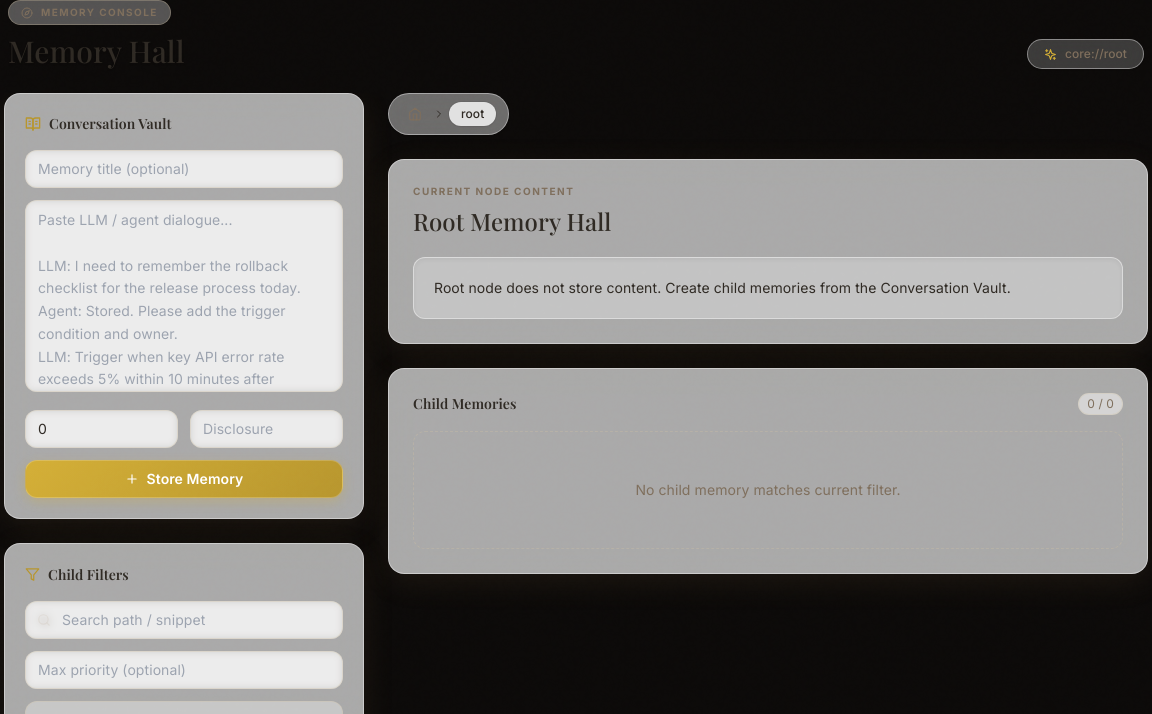
Test case: MemoryBrowser › does not navigate and shows guard feedback when create returns created=false
Step 1. Type "remember this workflow" into the text box with placeholder "Paste LLM / agent dialogue" → x=184, y=296, box [25,200,343,392]
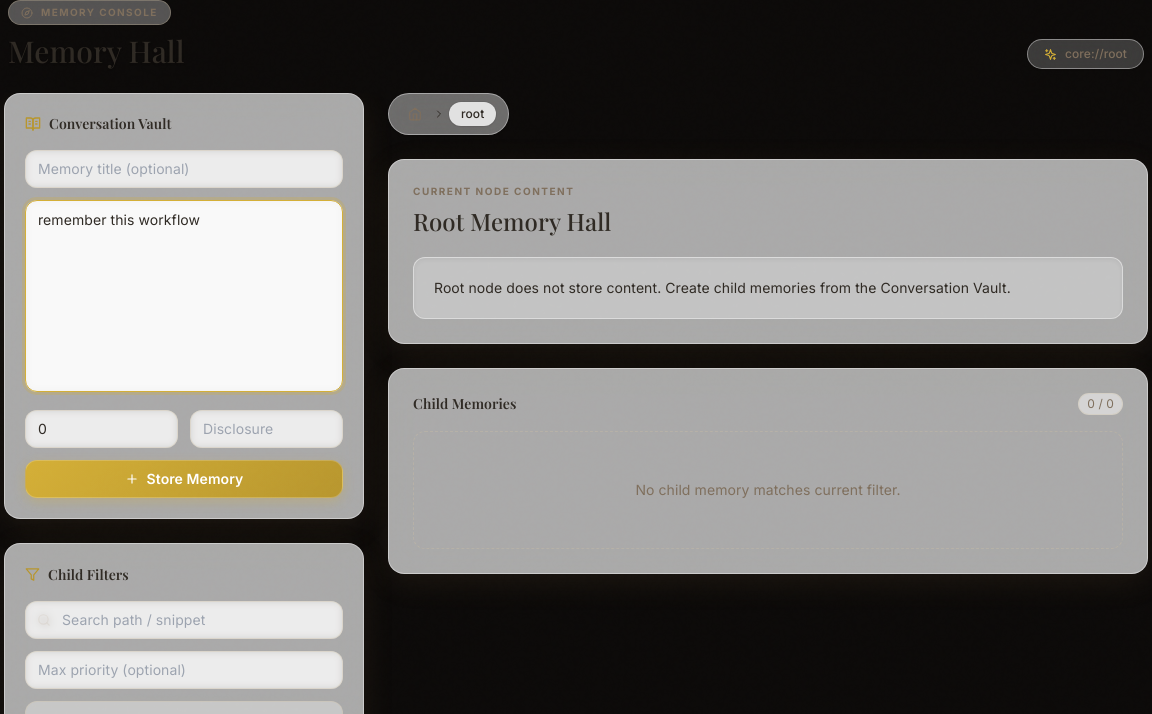
Step 2. Click the button "Store Memory" → x=184, y=479, box [25,460,343,498]
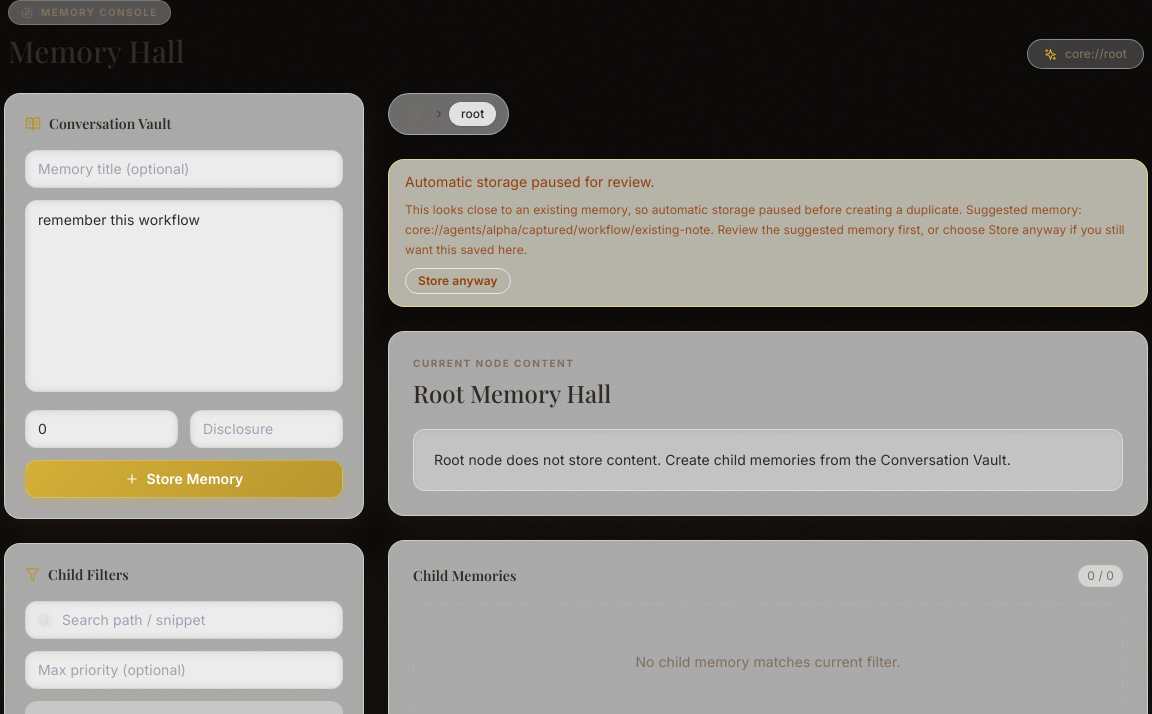
Expected: the text "Automatic storage paused for review." is shown, [405,173,655,190]
Expected: the button "Store anyway" is shown, [405,268,511,294]
Expected: the text "core://agents/alpha/captured/workflow/existing-note" is shown, [405,202,1125,257]
